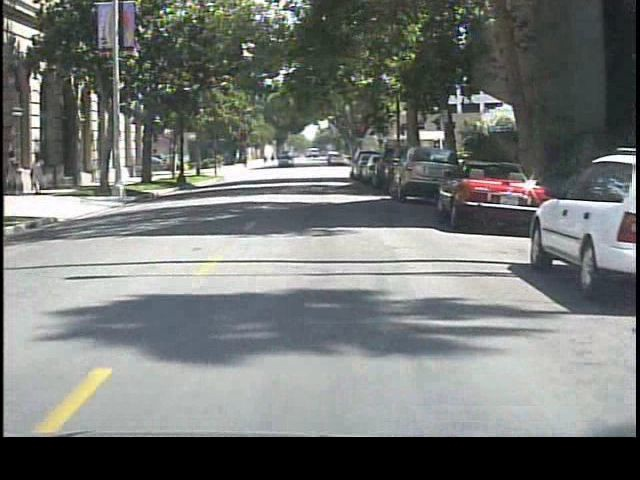person: (26, 152, 52, 196), (5, 147, 26, 195)
